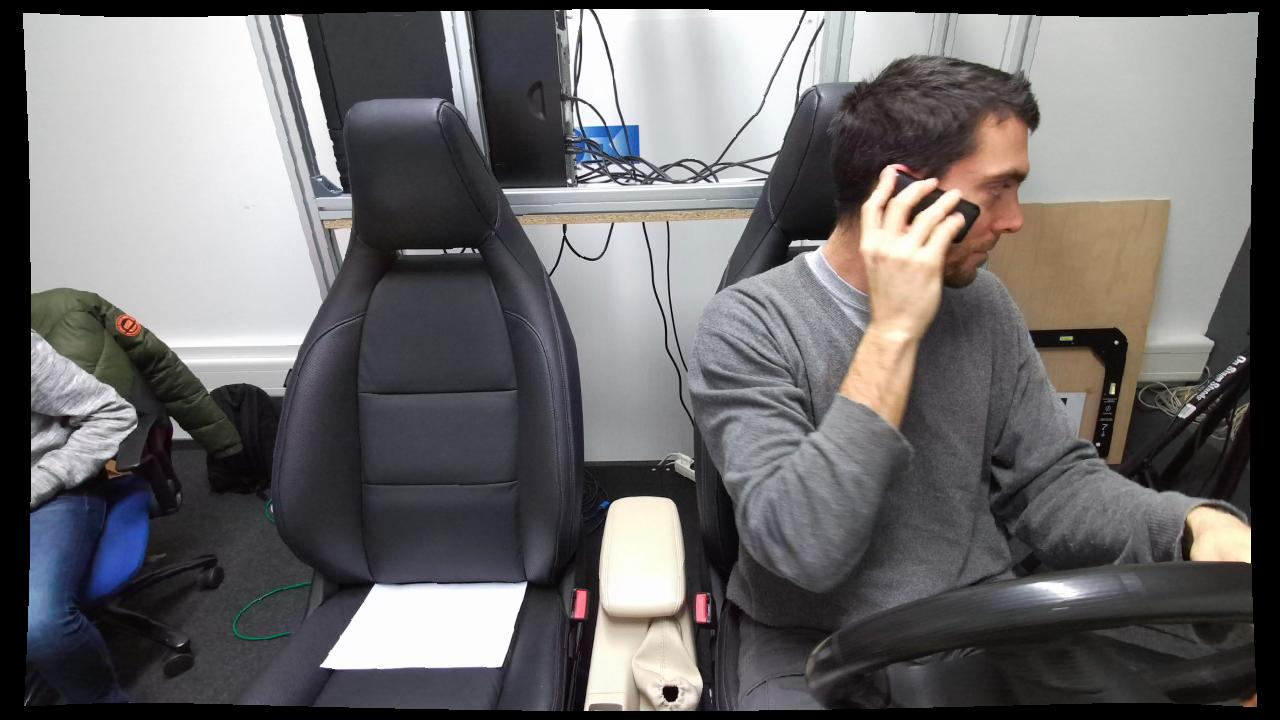Distracted: (698, 52, 1049, 711)
PhoneUse: (838, 151, 988, 268)
